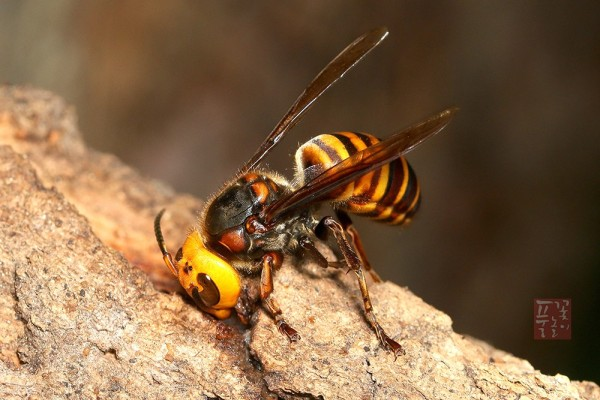asian_giant_hornet: (162, 109, 458, 325)
